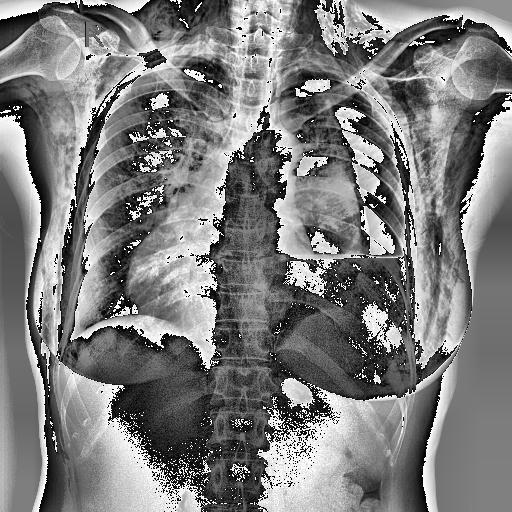10- Pleural effusion: (271, 252, 408, 342), (286, 256, 412, 324), (335, 252, 411, 321)
12- Pneumothorax: (280, 66, 410, 256), (294, 75, 416, 259), (331, 90, 410, 258)
3- Cardiomegaly: (129, 218, 312, 331)
7- Lung Opacity: (264, 105, 366, 261), (274, 100, 364, 254)
9- Other lesion: (394, 88, 506, 351), (404, 80, 498, 366), (14, 82, 79, 460), (20, 77, 76, 456), (414, 50, 482, 361), (24, 62, 85, 350), (128, 198, 232, 327), (295, 2, 451, 62), (142, 16, 373, 56), (137, 2, 227, 46), (86, 52, 134, 100)
